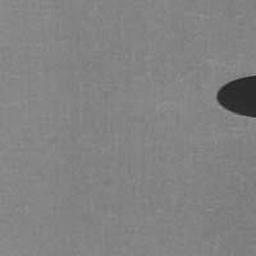Punching: (215, 76, 256, 120)
